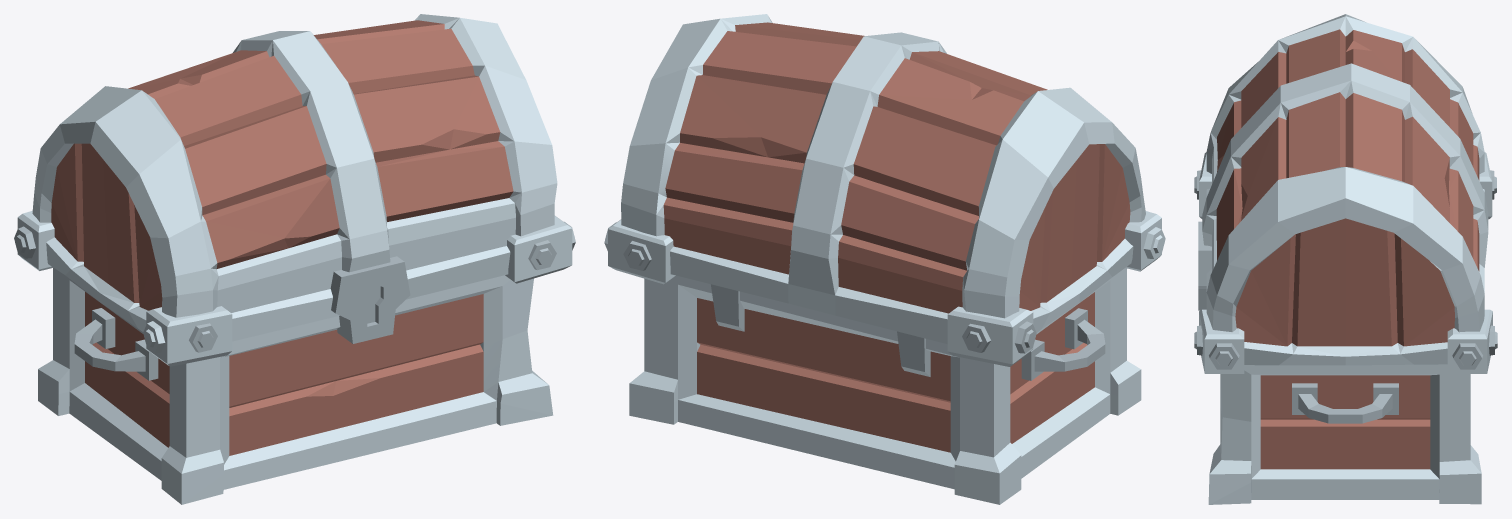
Rendered from Chest 1.fbx.
The picture shows the model from 3 angles, left to right: view 1: azimuth 30°, elevation 25°; view 2: azimuth 150°, elevation 25°; view 3: azimuth 270°, elevation 25°; orthographic projection. The views are drawn at different scales.
Parts seen in each view (by area): view 1: SM_Prop_Chest_02_Lid, SM_Prop_Chest_02; view 2: SM_Prop_Chest_02_Lid, SM_Prop_Chest_02; view 3: SM_Prop_Chest_02_Lid, SM_Prop_Chest_02.
Boxes of the visible parts, x1,y1,x2,y2 form: SM_Prop_Chest_02_Lid: [14, 14, 575, 366]; SM_Prop_Chest_02: [38, 268, 553, 504]; SM_Prop_Chest_02_Lid: [604, 14, 1165, 366]; SM_Prop_Chest_02: [629, 268, 1141, 504]; SM_Prop_Chest_02_Lid: [1194, 14, 1497, 373]; SM_Prop_Chest_02: [1208, 364, 1481, 504].
Bounding box in the file's own units: 273 × 228 × 180.
